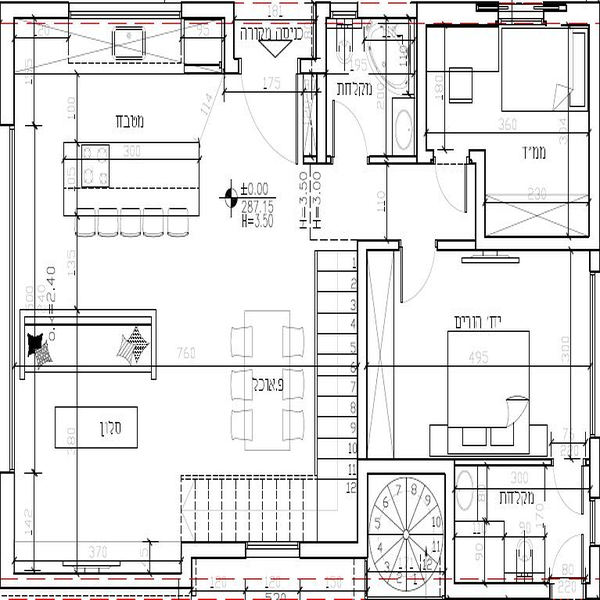door: (240, 69, 306, 172), (395, 247, 441, 314), (432, 152, 475, 215), (328, 100, 368, 158), (548, 531, 590, 579), (554, 467, 584, 515)
room: (1, 245, 369, 574), (2, 7, 340, 242), (356, 235, 600, 473), (412, 8, 600, 240)
wall: (586, 4, 600, 261), (356, 240, 369, 460), (19, 576, 192, 591), (370, 454, 454, 484), (455, 580, 564, 600), (474, 234, 587, 252), (1, 4, 15, 124), (2, 473, 17, 581), (418, 4, 428, 160), (357, 460, 372, 562), (433, 4, 496, 27), (446, 477, 457, 600), (301, 541, 357, 562), (192, 540, 247, 559), (474, 154, 487, 233), (545, 2, 584, 27), (183, 4, 234, 23), (220, 21, 237, 76), (17, 3, 73, 19), (180, 540, 200, 578), (588, 437, 600, 493), (590, 544, 598, 600)
window: (587, 277, 600, 441), (75, 2, 179, 22), (244, 538, 299, 562), (589, 500, 600, 547), (334, 2, 355, 24)
